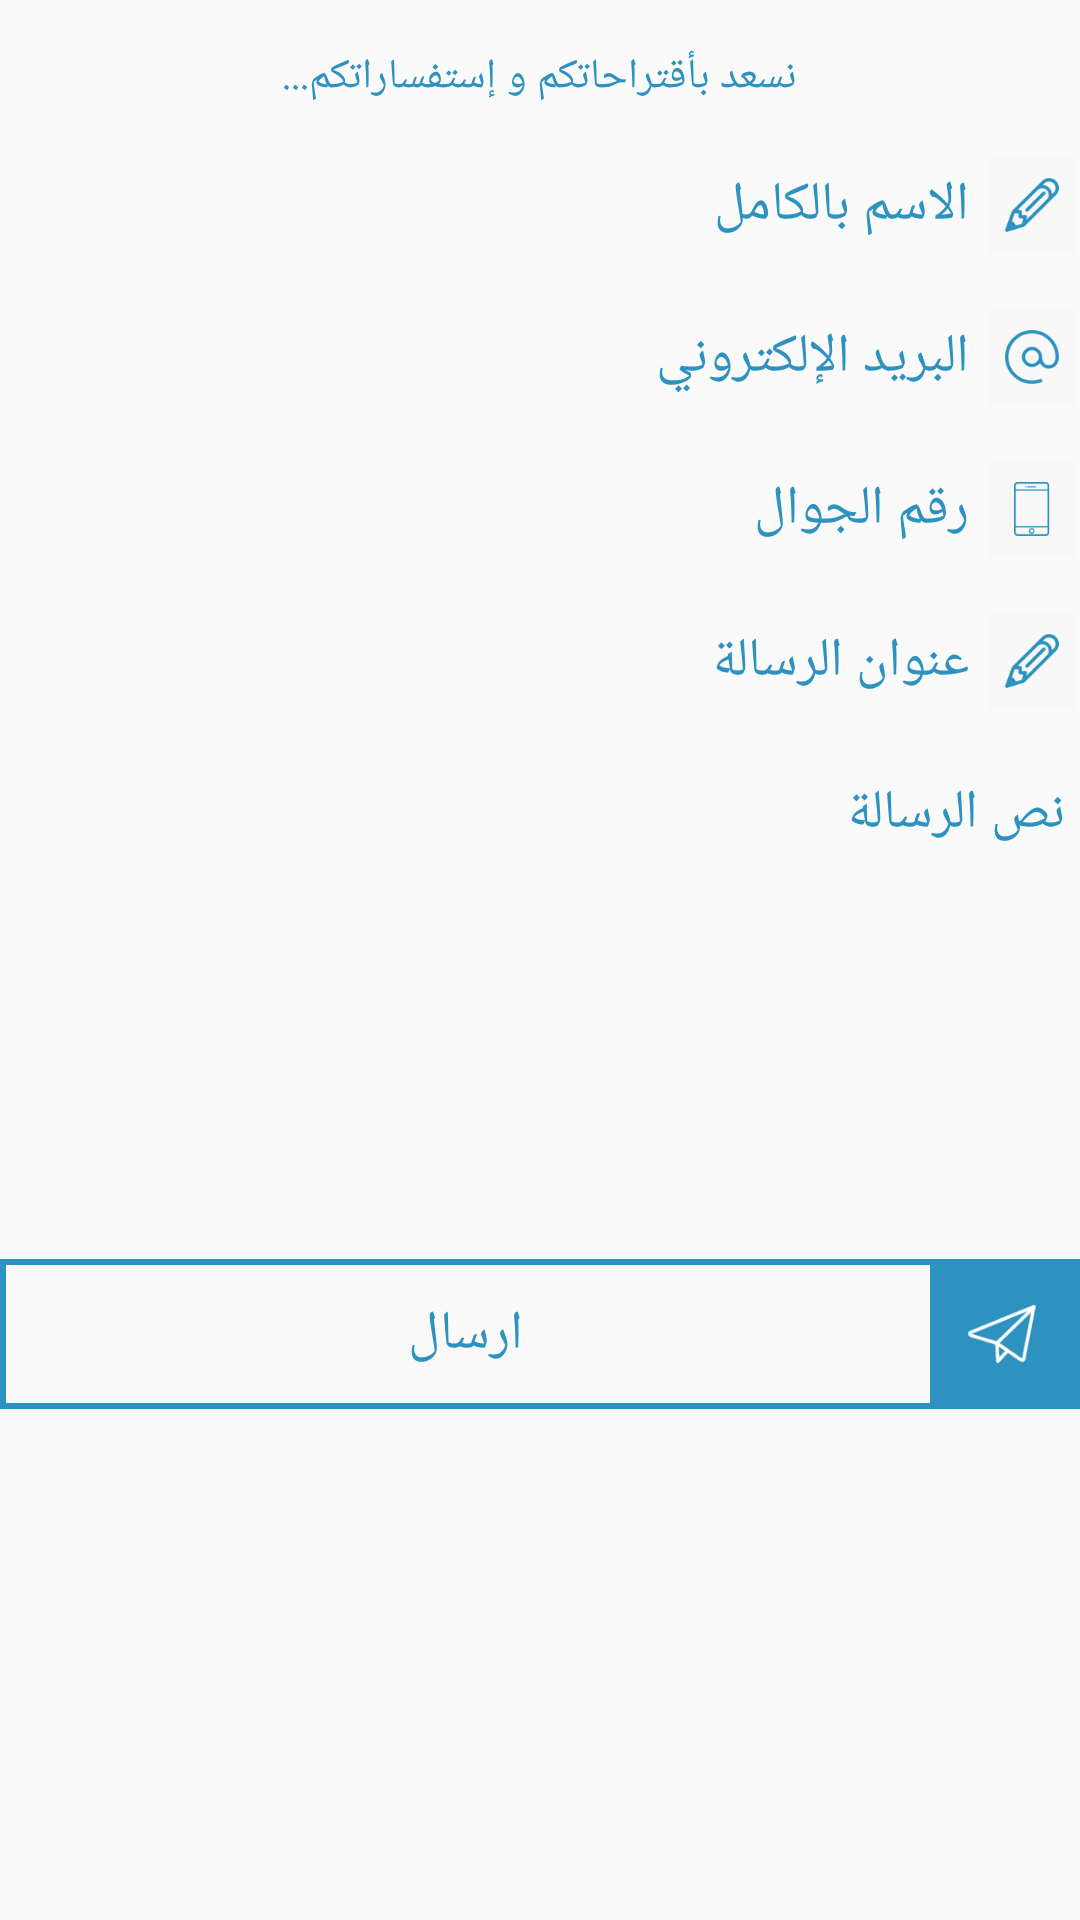

Where icons sit on this 1080x1920 app screen, as box=[x1, y1, x2, y2]:
mail: box=[1005, 330, 1059, 384]
mob: box=[1014, 482, 1050, 536]
send mes: box=[968, 1305, 1036, 1363]
